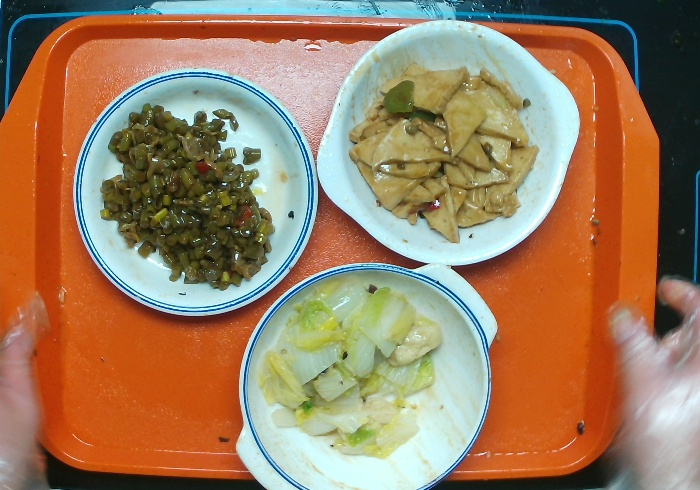HZYJPL-Dai_Er_Bai_Yuan_Wan: (305, 15, 587, 275)
HZYJPL-Lan_Bian_Dai_Er_Wan: (230, 259, 507, 490)
HZYJPL-Lan_Bian_Yuan_Die: (70, 60, 323, 323)
